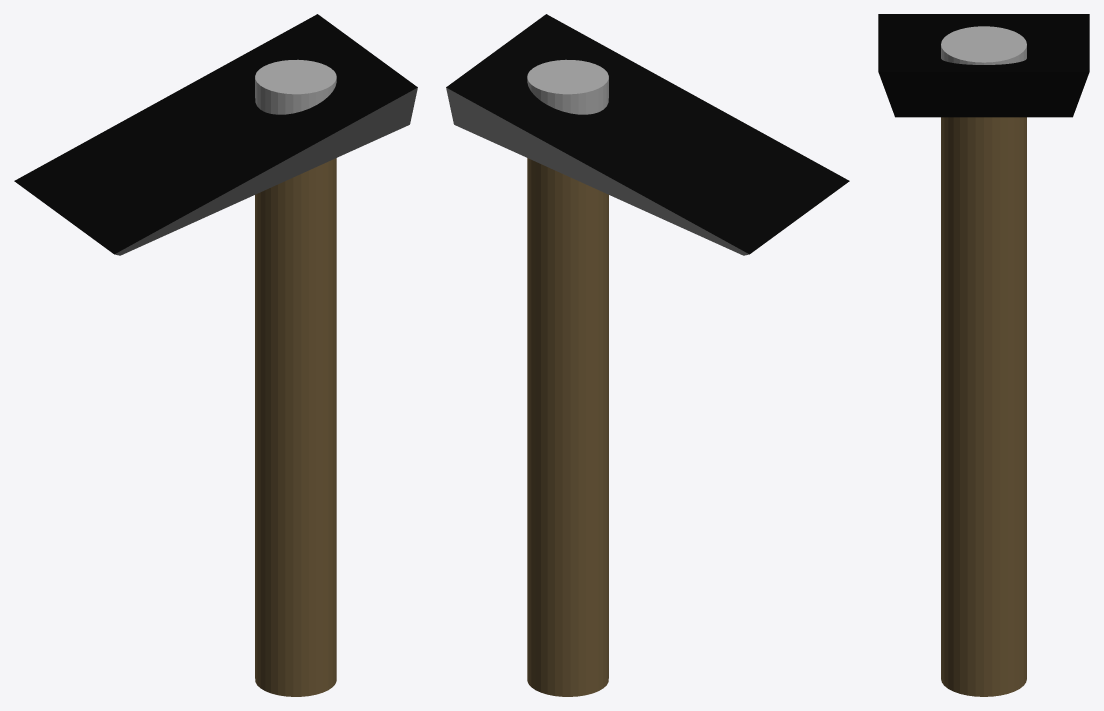
The picture shows the model from 3 angles, left to right: view 1: azimuth 30°, elevation 25°; view 2: azimuth 150°, elevation 25°; view 3: azimuth 270°, elevation 25°; orthographic projection. The views are drawn at different scales.
Parts seen in each view (by area): view 1: 円柱; view 2: 円柱; view 3: 円柱.
Part boxes in pixels (<box>): 円柱: <box>14,14,417,696</box>; 円柱: <box>446,14,849,696</box>; 円柱: <box>878,14,1089,696</box>.
Bounding box in the file's own units: 5.18 × 9.97 × 2.96.
